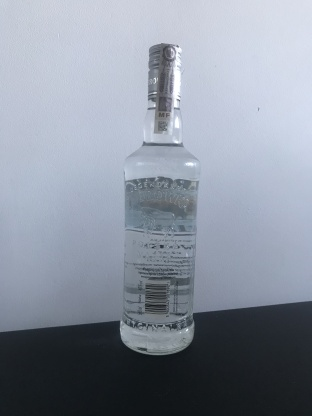nakretka: (145, 39, 184, 104)
